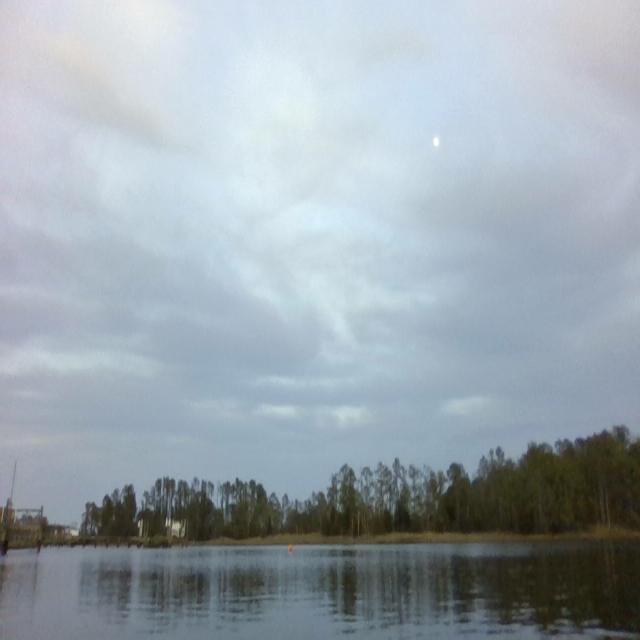Buoy: (286, 542, 294, 554)
